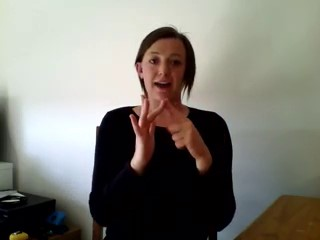I: (118, 91, 213, 178)
